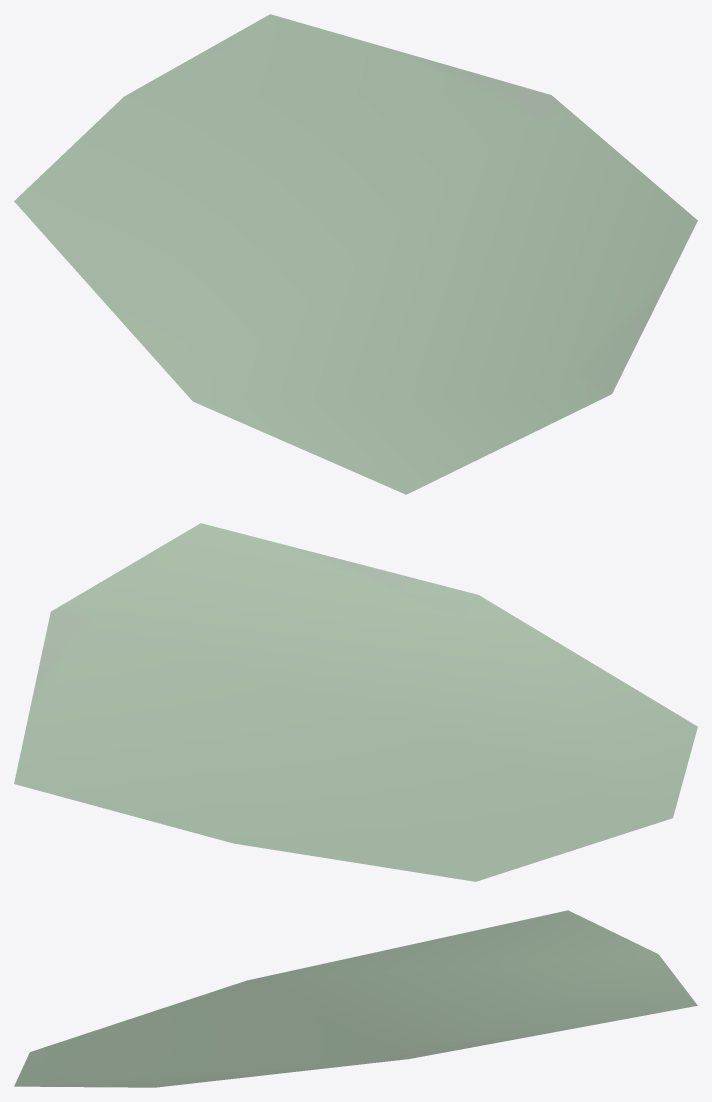
Rendered from TROLLHOLE02_HOLECAP63.fbx.
3 renders of one model, top to bottom at view 1: azimuth 30°, elevation 25°; view 2: azimuth 150°, elevation 25°; view 3: azimuth 270°, elevation 25°, orthographic. The views are drawn at different scales.
Visible parts, largest first — view 1: TROLLHOLE02_HOLECAP63; view 2: TROLLHOLE02_HOLECAP63; view 3: TROLLHOLE02_HOLECAP63.
Part boxes in pixels (x1,y1,x2,y2): TROLLHOLE02_HOLECAP63: (14, 14, 697, 494); TROLLHOLE02_HOLECAP63: (14, 523, 697, 881); TROLLHOLE02_HOLECAP63: (14, 910, 697, 1087).
Size of the model in its own units: 13398 by 4554 by 18691.
Materials: 1 (1 with a texture image).
